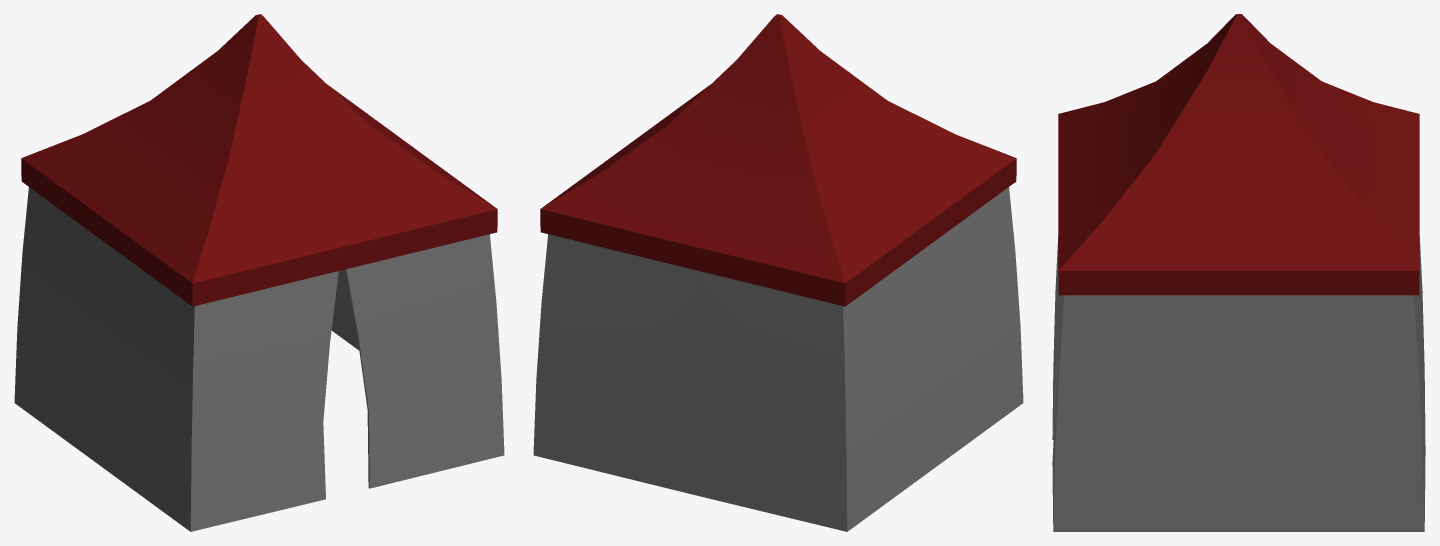
Rendered from SM_tent_siege_03.fbx.
3 views of the same model, side by side, from view 1: azimuth 30°, elevation 25°; view 2: azimuth 150°, elevation 25°; view 3: azimuth 270°, elevation 25° (orthographic). The views are drawn at different scales.
Visible parts, largest first — view 1: Box245; view 2: Box245; view 3: Box245.
Boxes of the visible parts, bbox=[...] form: Box245: bbox=[14, 14, 504, 531]; Box245: bbox=[533, 14, 1023, 531]; Box245: bbox=[1052, 14, 1425, 531].
Bounding box in the file's own units: 138 × 135 × 174.
